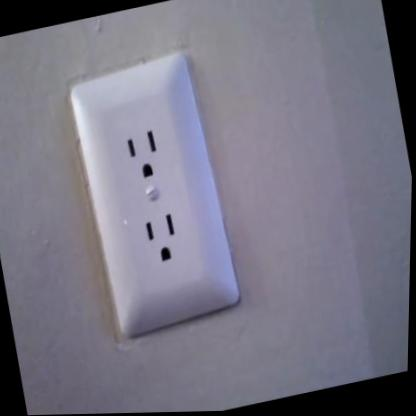OUTLET: (58, 48, 252, 343)
